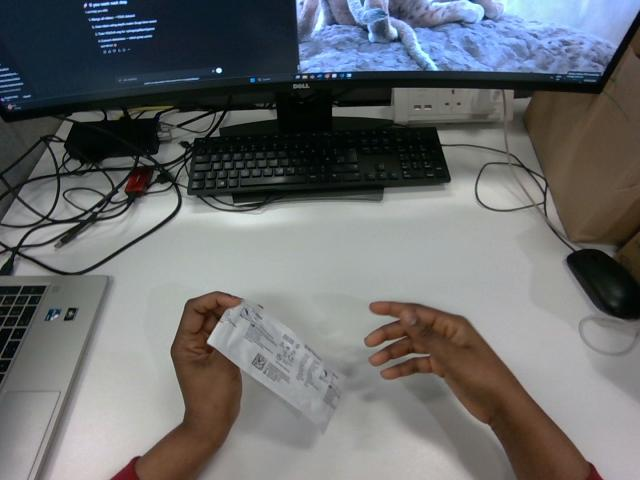syringe: (208, 301, 342, 431)
